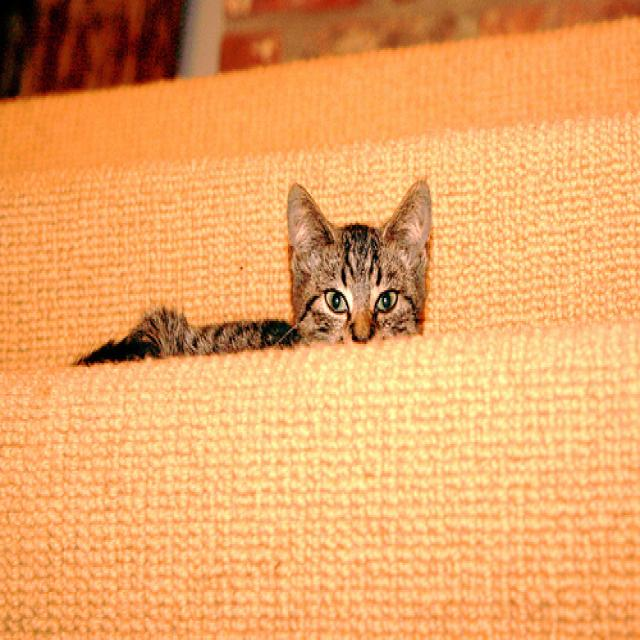cat: (73, 178, 434, 366)
